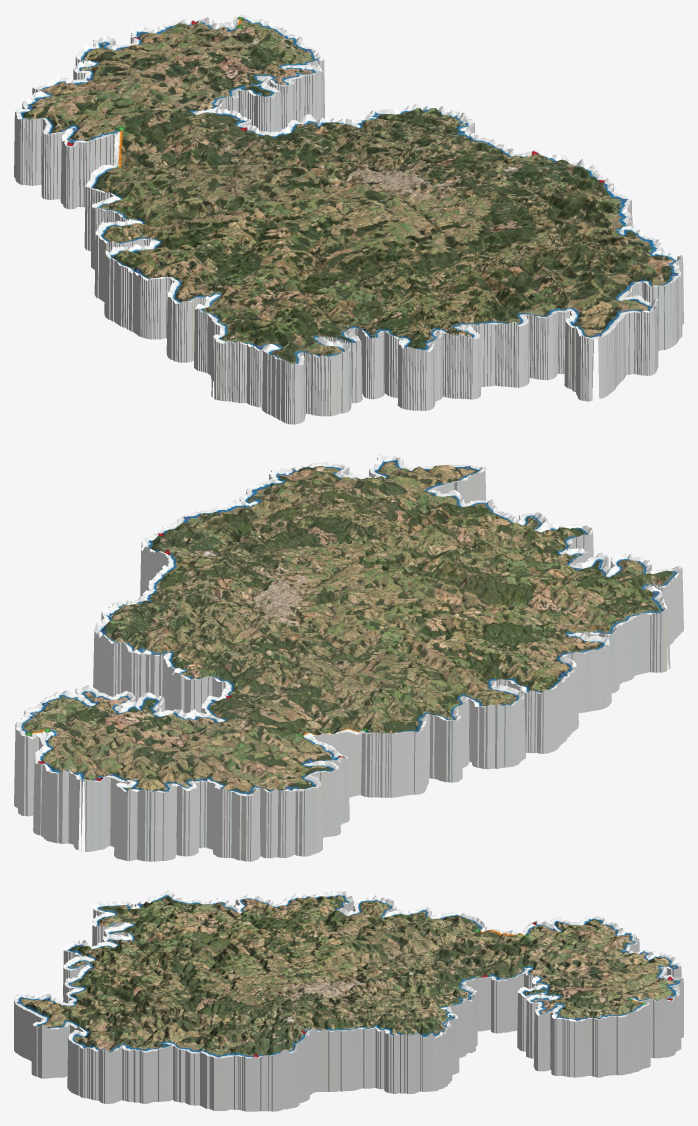
3 views of the same model, one above another, from view 1: azimuth 30°, elevation 25°; view 2: azimuth 150°, elevation 25°; view 3: azimuth 270°, elevation 25° (orthographic). The views are drawn at different scales.
Bounding box in the file's own units: 0.2 × 0.0357 × 0.3267.
Materials: 1 (1 with a texture image).
